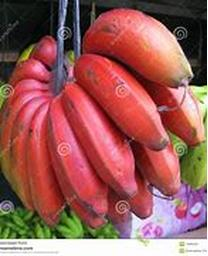banana: (0, 7, 204, 233)
